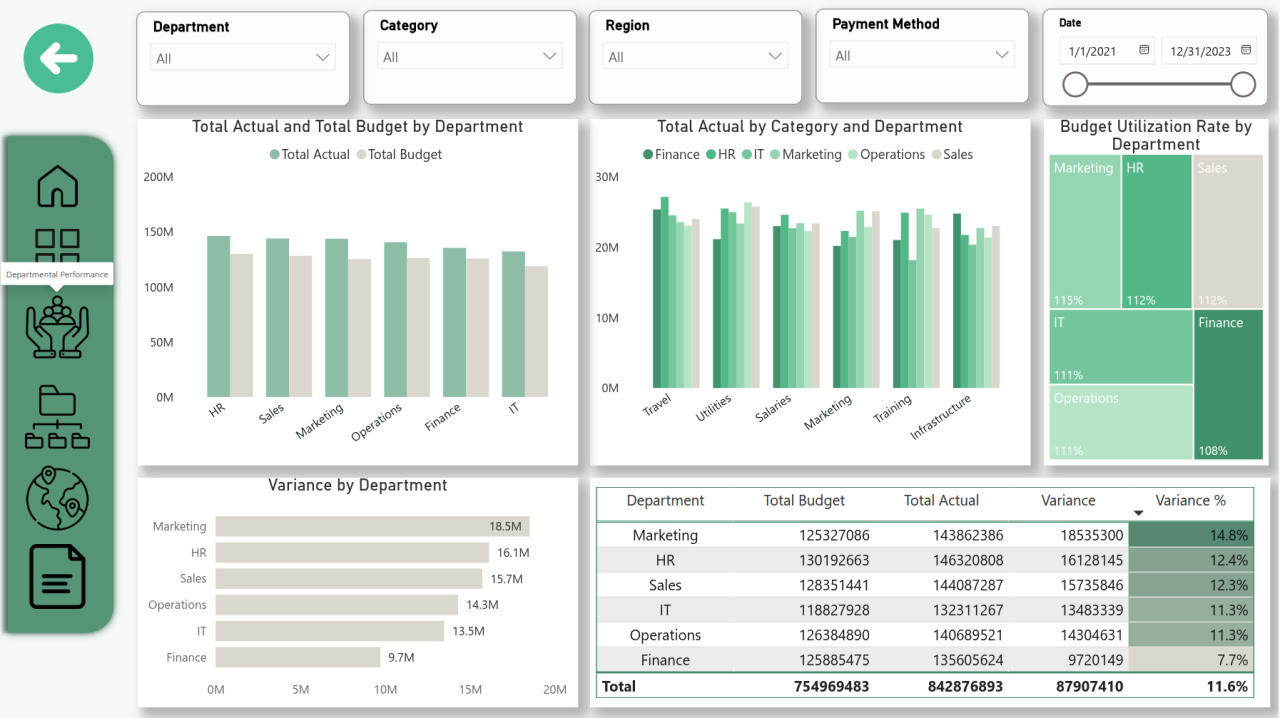

The dashboard page shown, as its layout file describes it:
{"tool":"powerbi","page":{"name":"Departmental Performance","canvas":[1280,720],"ordinal":2},"visuals":[{"type":"shape","box":[0,128.3,121.7,513.3],"z":0},{"type":"clusteredBarChart","fields":{"Category":["Data.Department"],"Y":["Measures_.Variance"]},"box":[137.8,478.5,440.6,230.2],"z":0,"group":"g3"},{"type":"slicer","fields":{"Values":["Data.Payment Method"]},"box":[816.6,8.3,213.5,95.4],"z":1000,"group":"g1"},{"type":"image","box":[25,218.3,65,65],"z":1000},{"type":"tableEx","fields":{"Values":["Data.Department","Measures_.Total Budget","Measures_.Total Actual","Measures_.Variance","Measures_.Variance %"]},"box":[590.5,478.5,681.4,230.2],"z":1000,"group":"g3"},{"type":"group","id":"g1","title":"Group 3","box":[136.7,8.3,1131.7,98.3],"z":2000},{"type":"slicer","fields":{"Values":["Calendar.Date"]},"box":[1043.7,8.3,225.6,98.4],"z":2000,"group":"g1"},{"type":"slicer","fields":{"Values":["Data.Region"]},"box":[589.4,9.8,213.5,95.4],"z":3000,"group":"g1"},{"type":"lineClusteredColumnComboChart","fields":{"Category":["Data.Category"],"Series":["Data.Department"],"Y":["Measures_.Total Actual"]},"box":[590.5,119.3,440.6,346.8],"z":3000,"group":"g2"},{"type":"image","box":[25,295,65,65],"z":3000},{"type":"slicer","fields":{"Values":["Data.Category"]},"box":[363.8,9.8,213.5,95.4],"z":4000,"group":"g1"},{"type":"clusteredColumnChart","fields":{"Category":["Data.Department"],"Y":["Measures_.Total Actual","Measures_.Total Budget"]},"box":[137.8,119.3,440.6,346.8],"z":4000,"group":"g2"},{"type":"image","box":[25,385,65,65],"z":4000},{"type":"slicer","fields":{"Values":["Data.Department"]},"box":[136.7,11.3,213.5,95.4],"z":5000,"group":"g1"},{"type":"treemap","fields":{"Group":["Data.Department"],"Values":["Measures_.Budget Utilization Rate"]},"box":[1045,119.2,225,346.7],"z":5000,"group":"g2"},{"type":"image","box":[25,466.7,65,65],"z":5000},{"type":"image","box":[25,545,65,65],"z":6000},{"type":"image","box":[25,153.3,65,65],"z":7000},{"type":"group","id":"g2","title":"Group 1","box":[137.8,119.2,1132.2,346.8],"z":8000},{"type":"group","id":"g3","title":"Group 2","box":[137.8,478.5,1134.1,230.2],"z":9000},{"type":"image","box":[18.3,23.3,80,70],"z":10000}]}

Visuals, with their boxes on the page's 1280x720 design canvas (x1, y1, x2, y2). These are canvas units, not pixel positions in the 1280x718 screenshot, which may show the page scaled, cropped or inside an application window:
shape: region(0, 128, 122, 642)
clusteredBarChart - Data.Department x Measures_.Variance: region(138, 478, 578, 709)
slicer - Data.Payment Method: region(817, 8, 1030, 104)
image: region(25, 218, 90, 283)
tableEx - Data.Department x Measures_.Total Budget: region(590, 478, 1272, 709)
"Group 3" group: region(137, 8, 1268, 107)
slicer - Calendar.Date: region(1044, 8, 1269, 107)
slicer - Data.Region: region(589, 10, 803, 105)
lineClusteredColumnComboChart - Data.Category x Data.Department: region(590, 119, 1031, 466)
image: region(25, 295, 90, 360)
slicer - Data.Category: region(364, 10, 577, 105)
clusteredColumnChart - Data.Department x Measures_.Total Actual: region(138, 119, 578, 466)
image: region(25, 385, 90, 450)
slicer - Data.Department: region(137, 11, 350, 107)
treemap - Data.Department x Measures_.Budget Utilization Rate: region(1045, 119, 1270, 466)
image: region(25, 467, 90, 532)
image: region(25, 545, 90, 610)
image: region(25, 153, 90, 218)
"Group 1" group: region(138, 119, 1270, 466)
"Group 2" group: region(138, 478, 1272, 709)
image: region(18, 23, 98, 93)
